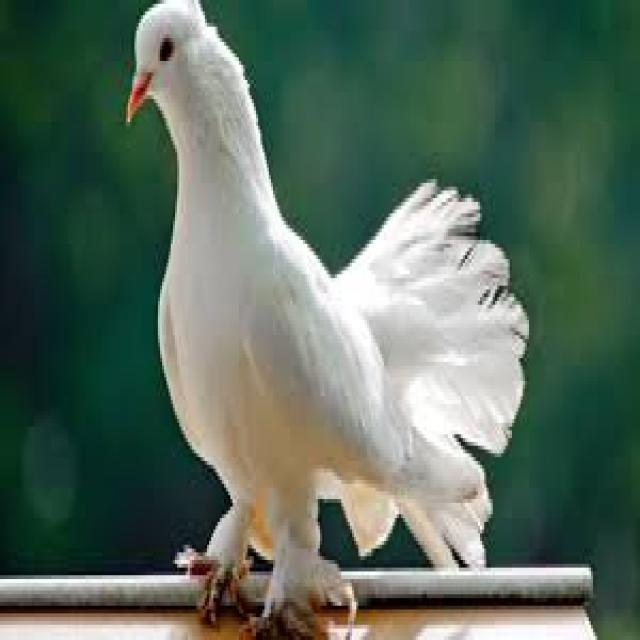Pigeon: (122, 1, 535, 615)
